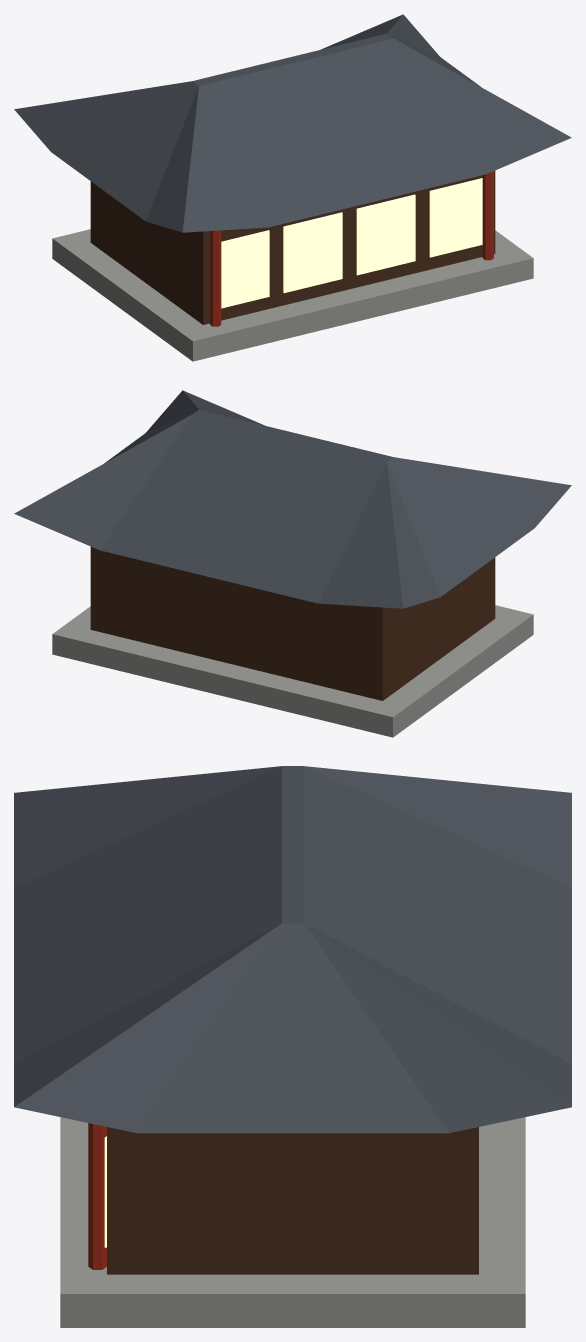
The model's file is dojo.glb.
3 renders of one model, top to bottom at view 1: azimuth 30°, elevation 25°; view 2: azimuth 150°, elevation 25°; view 3: azimuth 270°, elevation 25°, orthographic. The views are drawn at different scales.
Parts seen in each view (by area): view 1: dojo; view 2: dojo; view 3: dojo.
Boxes of the visible parts, x1=… form: dojo: x1=14, y1=14, x2=571, y2=361; dojo: x1=14, y1=390, x2=571, y2=737; dojo: x1=14, y1=766, x2=571, y2=1327.
Bounding box in the file's own units: 16 × 8.2 × 12.
